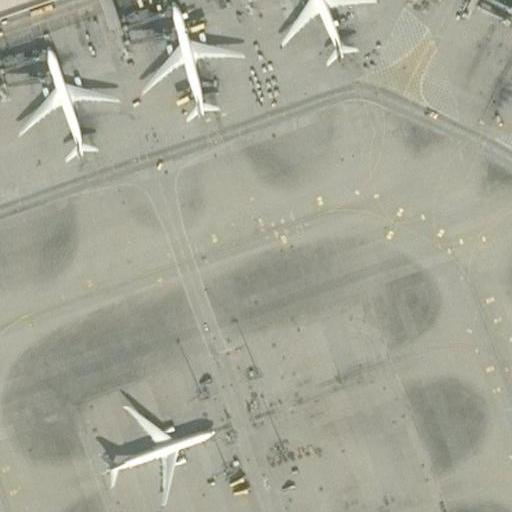Aircraft: (3, 39, 118, 167), (94, 392, 223, 506), (132, 0, 247, 124), (277, 0, 384, 71)
